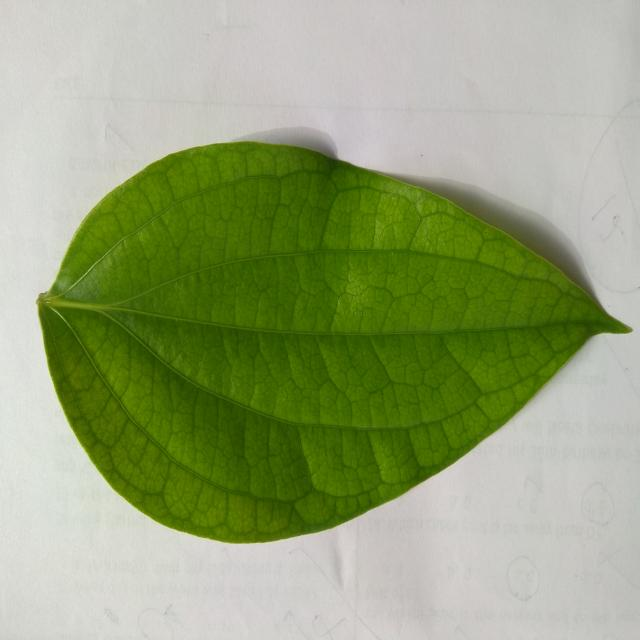pepper: (38, 142, 629, 543)
